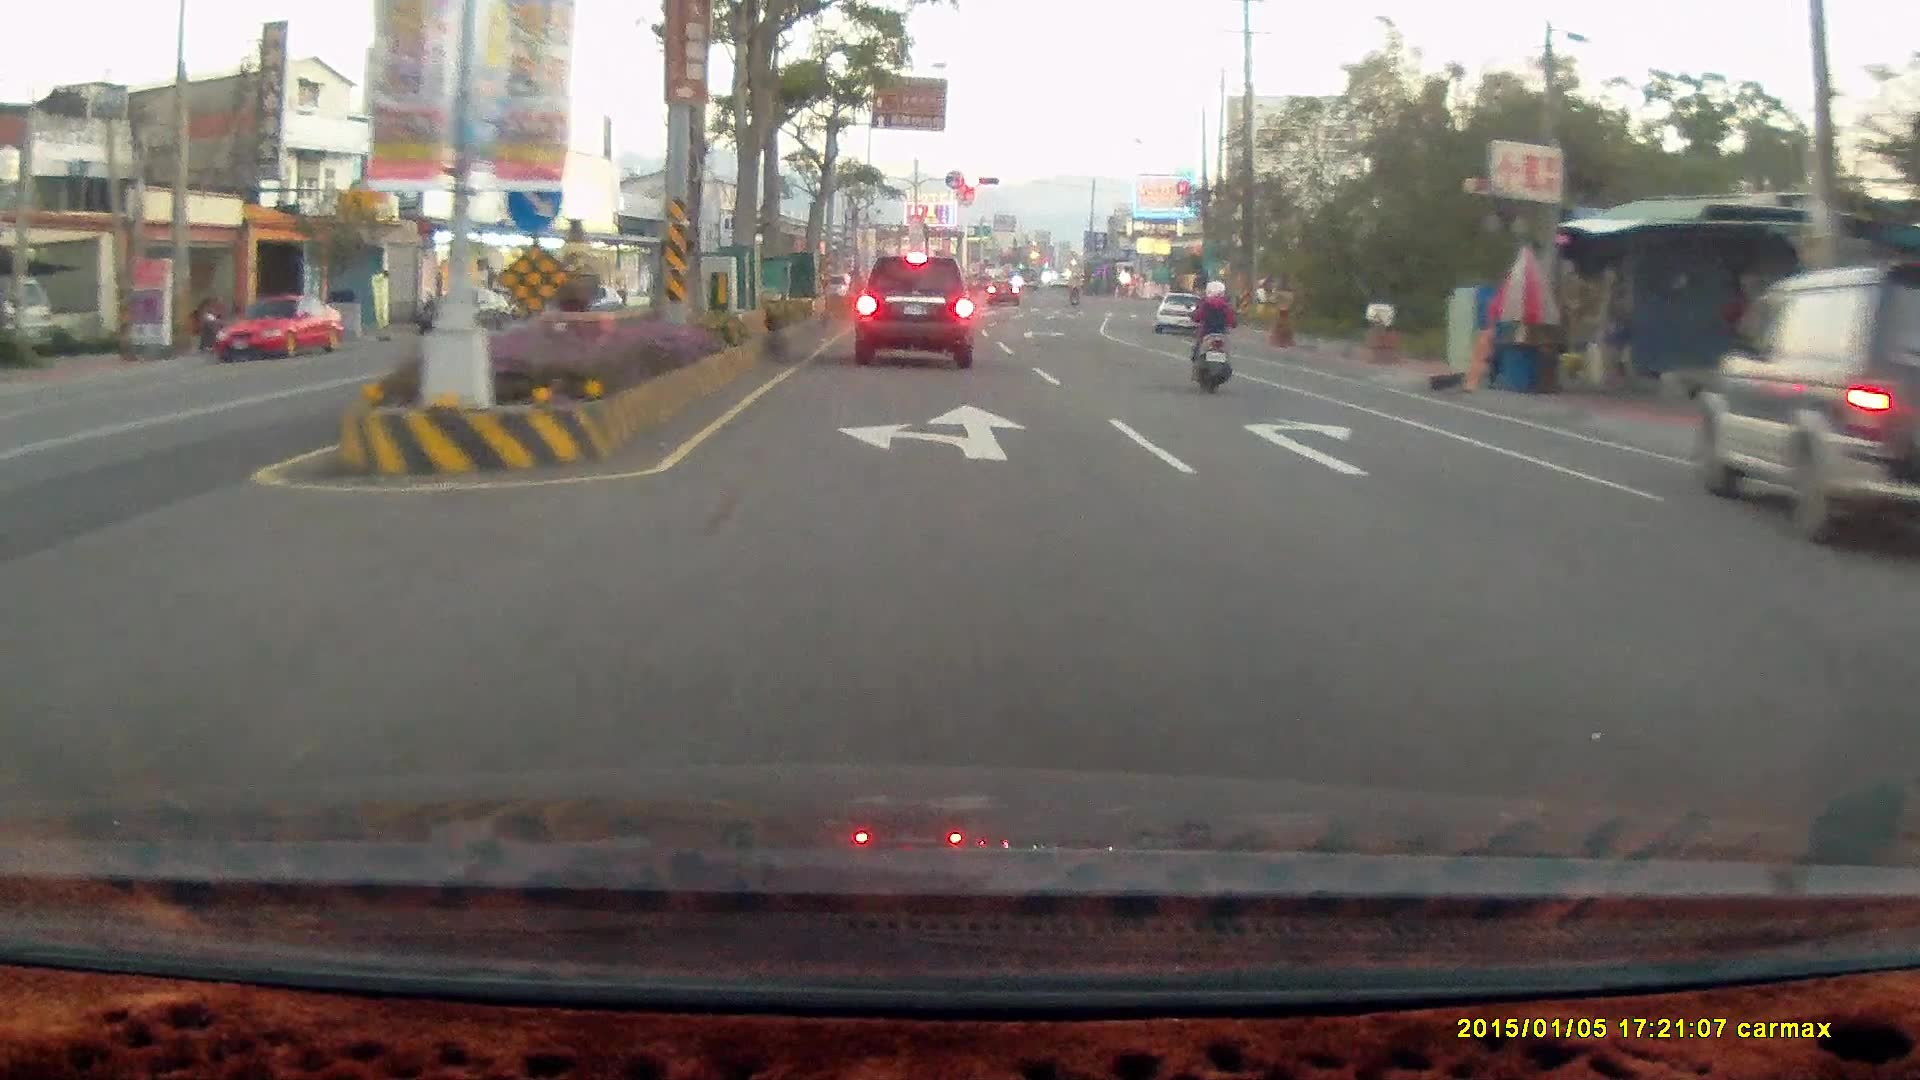rider: (1186, 277, 1234, 396)
vehicle: (1696, 266, 1920, 544), (853, 254, 972, 366), (214, 293, 348, 364), (1896, 493, 1920, 836), (1883, 528, 1920, 690), (421, 291, 518, 338), (1154, 292, 1212, 339), (1154, 291, 1211, 333)
